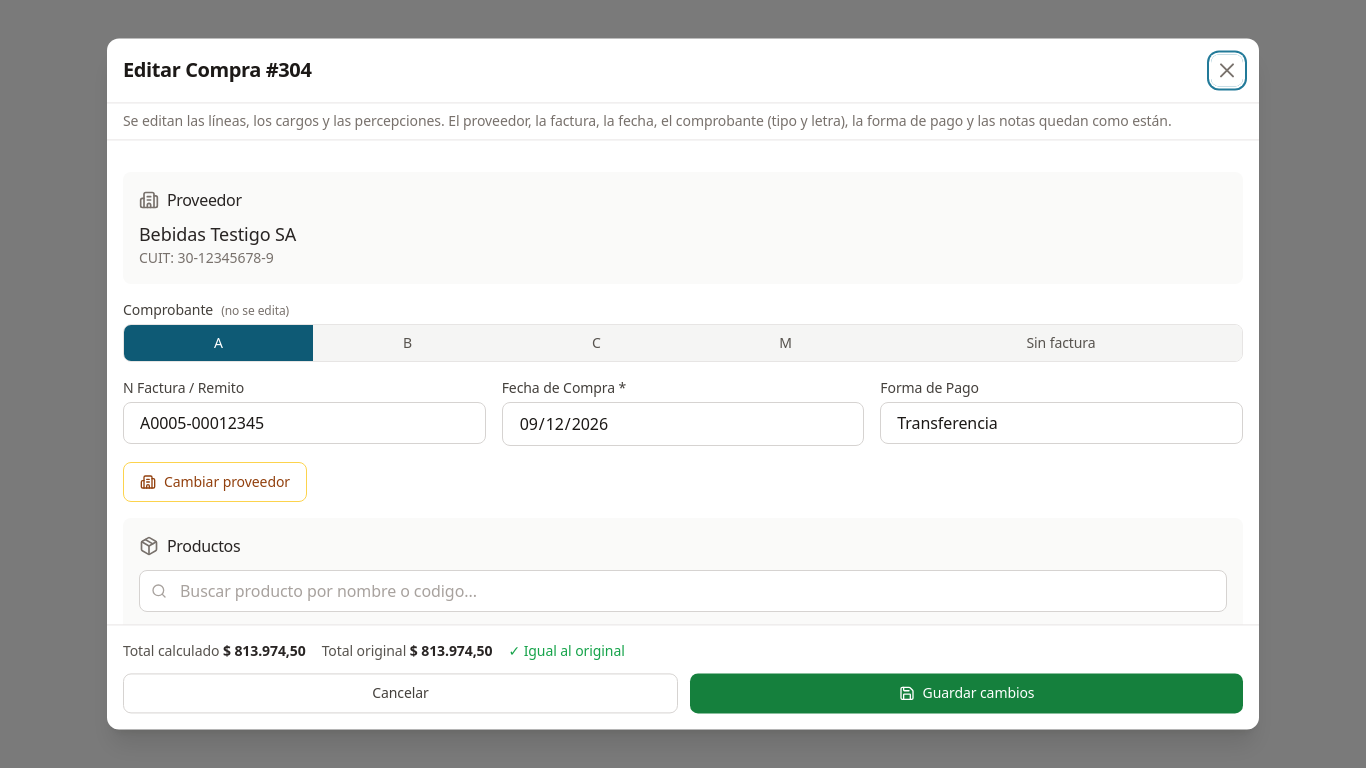
Test case: ModalCompra 'editar' · lo que hacía ModalEditarCompra › el rechazo de la RPC se muestra ADENTRO del modal y el modal queda abierto
Click the button "Guardar cambios": (966, 694) [690,674,1243,714]
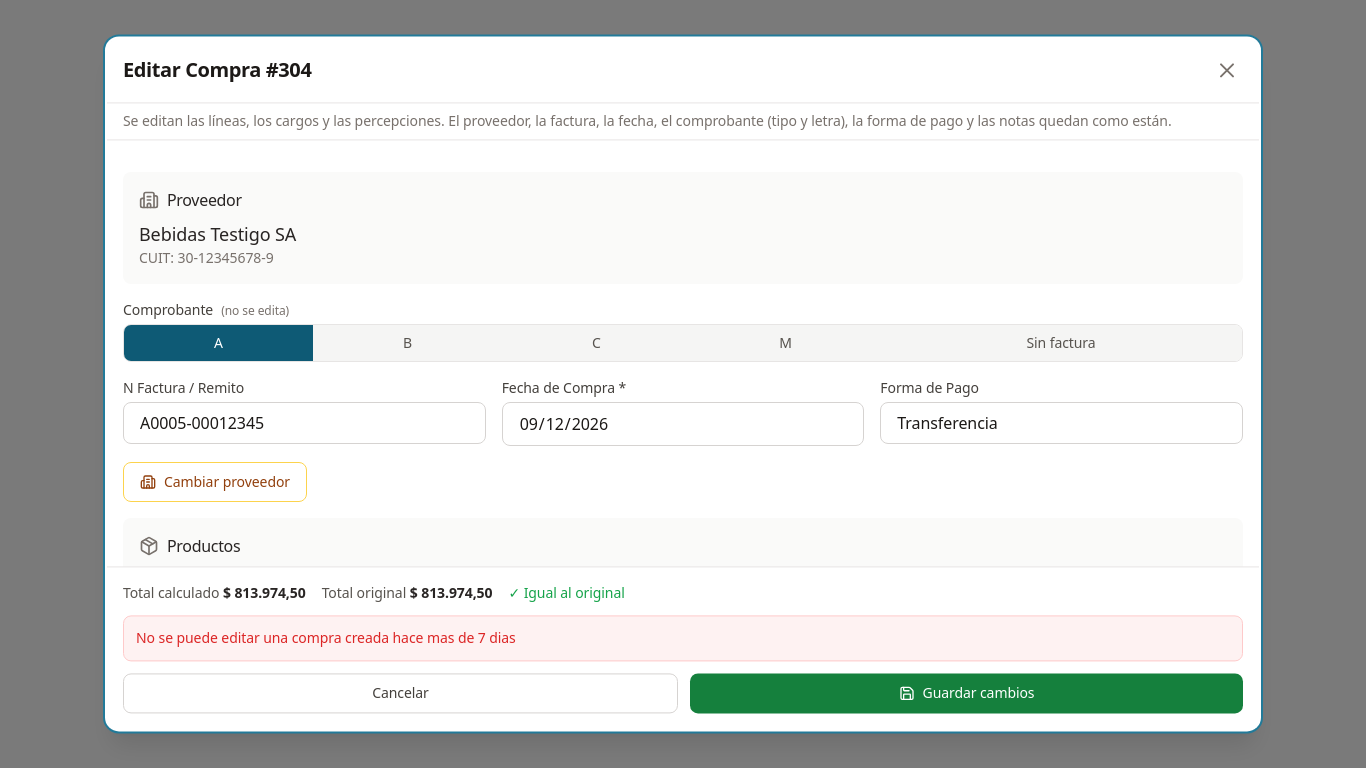
expect the heading "Editar Compra #304" is shown: met, box [123,56,311,84]
expect the message shows "hace mas de 7 dias": met, box [136,629,516,648]
